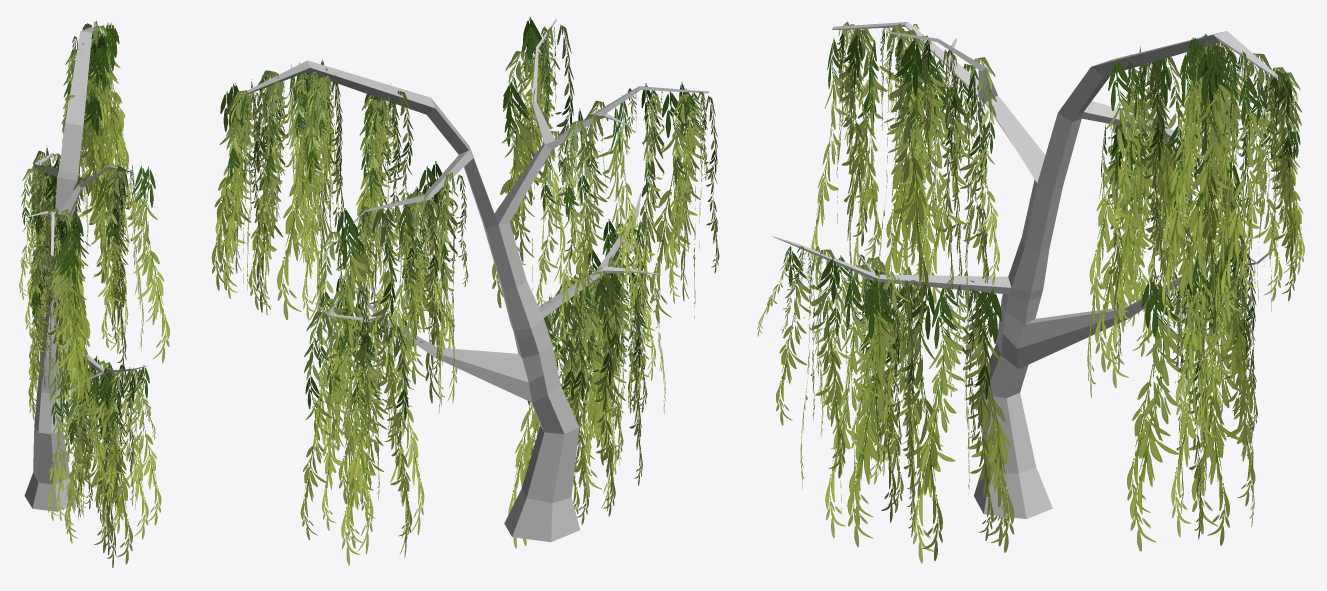
Rendered from WillowTreetest.fbx.
3 renders of one model, left to right at view 1: azimuth 30°, elevation 25°; view 2: azimuth 150°, elevation 25°; view 3: azimuth 270°, elevation 25°, orthographic. The views are drawn at different scales.
Parts seen in each view (by area): view 1: tree base; view 2: tree base; view 3: tree base.
Boxes of the visible parts, x1,y1,x2,y2 form: tree base: (19, 21, 169, 567); tree base: (211, 17, 719, 565); tree base: (757, 21, 1304, 563).
Size of the model in its own units: 771 by 1231 by 1046.
